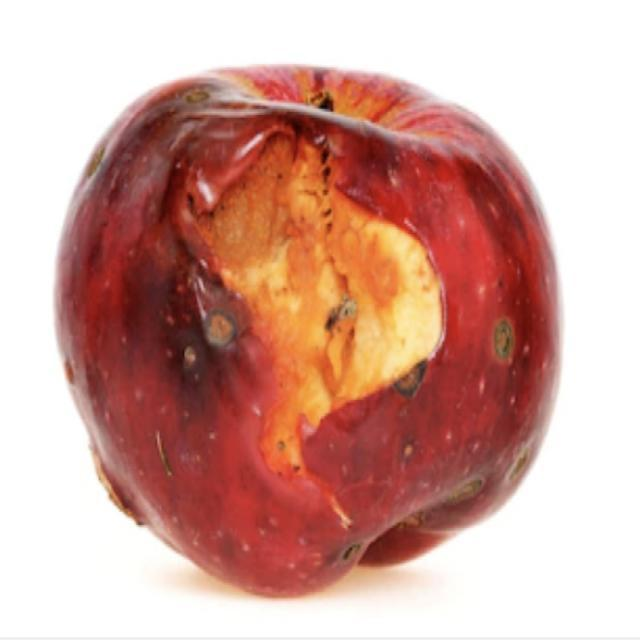Rotten: (57, 67, 570, 595)
